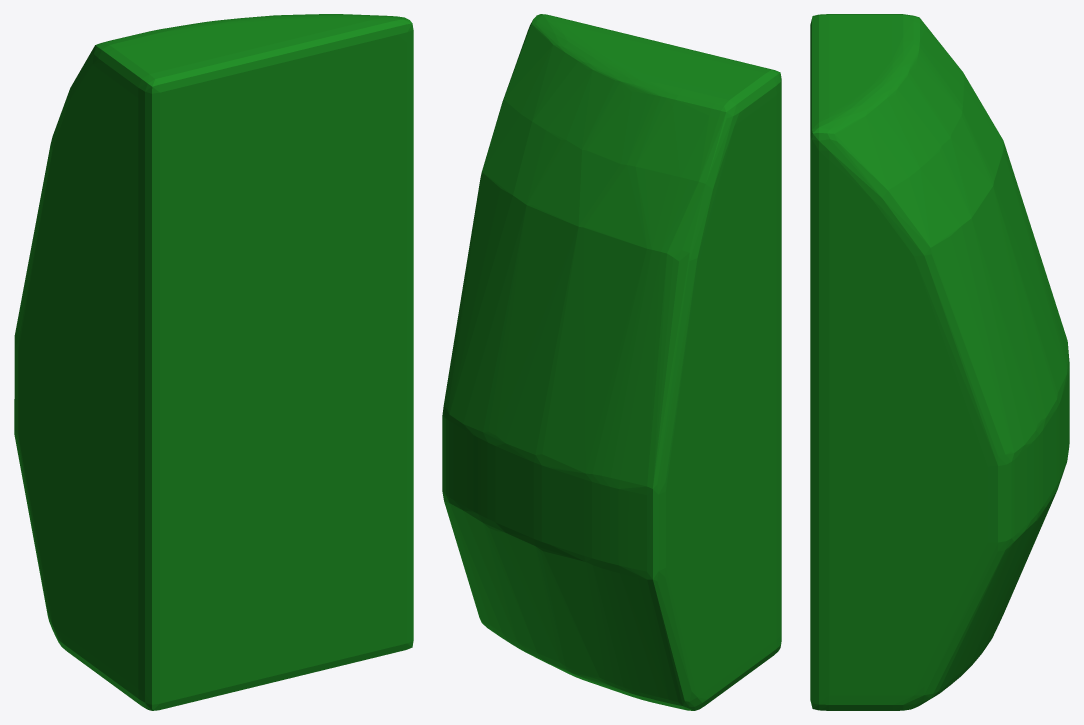
File: right_hip_roll_link_part_8.obj
3 renders of one model, left to right at view 1: azimuth 30°, elevation 25°; view 2: azimuth 150°, elevation 25°; view 3: azimuth 270°, elevation 25°, orthographic. The views are drawn at different scales.
Bounding box in the file's own units: 0.0336 × 0.0752 × 0.0303.
